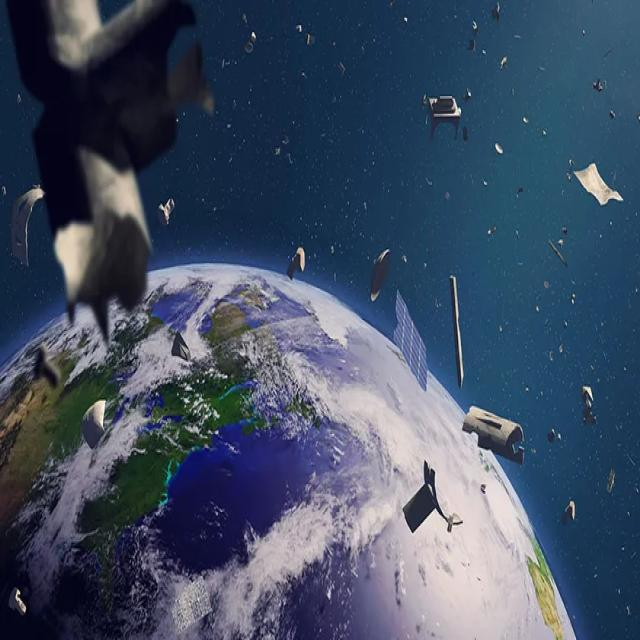large_debris: (401, 455, 465, 545), (459, 397, 531, 475), (391, 282, 433, 401), (417, 79, 475, 148), (566, 150, 628, 213), (446, 271, 470, 397), (367, 240, 394, 313), (575, 376, 599, 437), (545, 230, 574, 278), (283, 238, 310, 288), (156, 190, 180, 233), (602, 457, 620, 503), (559, 493, 579, 532)
